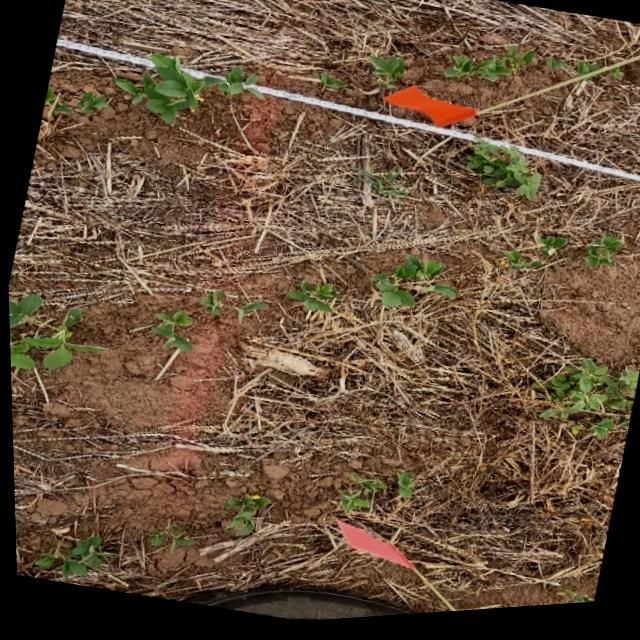caruru_weed: (535, 365, 636, 445), (465, 147, 540, 204)
grassy_weed: (358, 171, 407, 209)
soy_plant: (114, 54, 256, 125), (7, 294, 102, 368), (370, 258, 454, 312), (31, 535, 108, 576), (443, 54, 533, 87), (198, 292, 265, 323), (219, 496, 266, 539), (336, 476, 385, 515), (149, 312, 190, 353), (285, 285, 336, 315), (145, 522, 191, 554), (582, 242, 622, 274), (367, 60, 405, 92), (43, 85, 72, 113), (534, 241, 566, 264), (504, 257, 542, 276), (75, 92, 105, 113), (318, 75, 346, 92), (394, 477, 409, 502), (201, 543, 232, 552), (565, 600, 590, 611), (576, 69, 597, 82)
